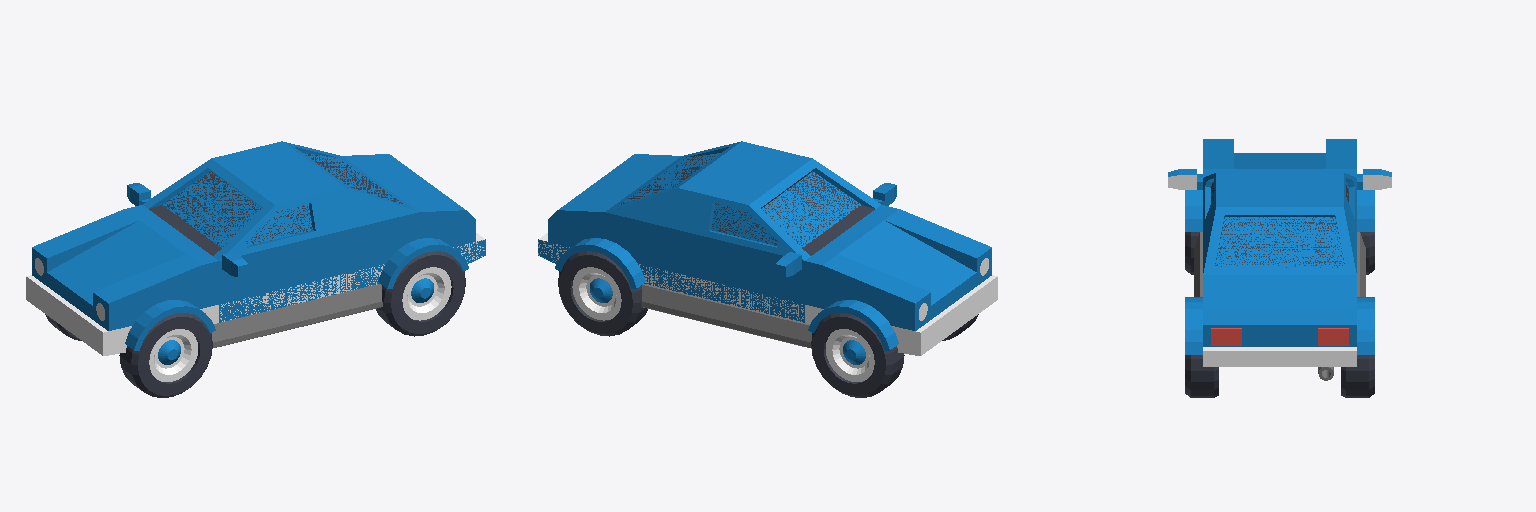
The model's file is car3.obj.
The picture shows the model from 3 angles: view 1: azimuth 30°, elevation 25°; view 2: azimuth 150°, elevation 25°; view 3: azimuth 270°, elevation 25°; orthographic projection.
Size of the model in its own units: 2.87 by 1.11 by 1.45.